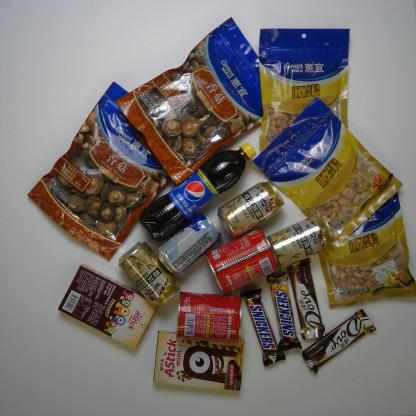Alcohol: (157, 211, 223, 277), (118, 240, 182, 308), (217, 177, 286, 239), (266, 214, 334, 269)
Canned Food: (205, 226, 283, 294), (176, 289, 243, 344)
Chocolate: (300, 308, 378, 375), (239, 287, 288, 367), (286, 256, 326, 342), (264, 272, 303, 352)
Dessert: (57, 263, 159, 349), (152, 328, 246, 392)
Dried Food: (114, 16, 277, 186), (26, 80, 172, 261)
Dried Fruit: (251, 97, 403, 249), (318, 186, 416, 310), (259, 26, 351, 157)
Drink: (138, 140, 257, 242)
